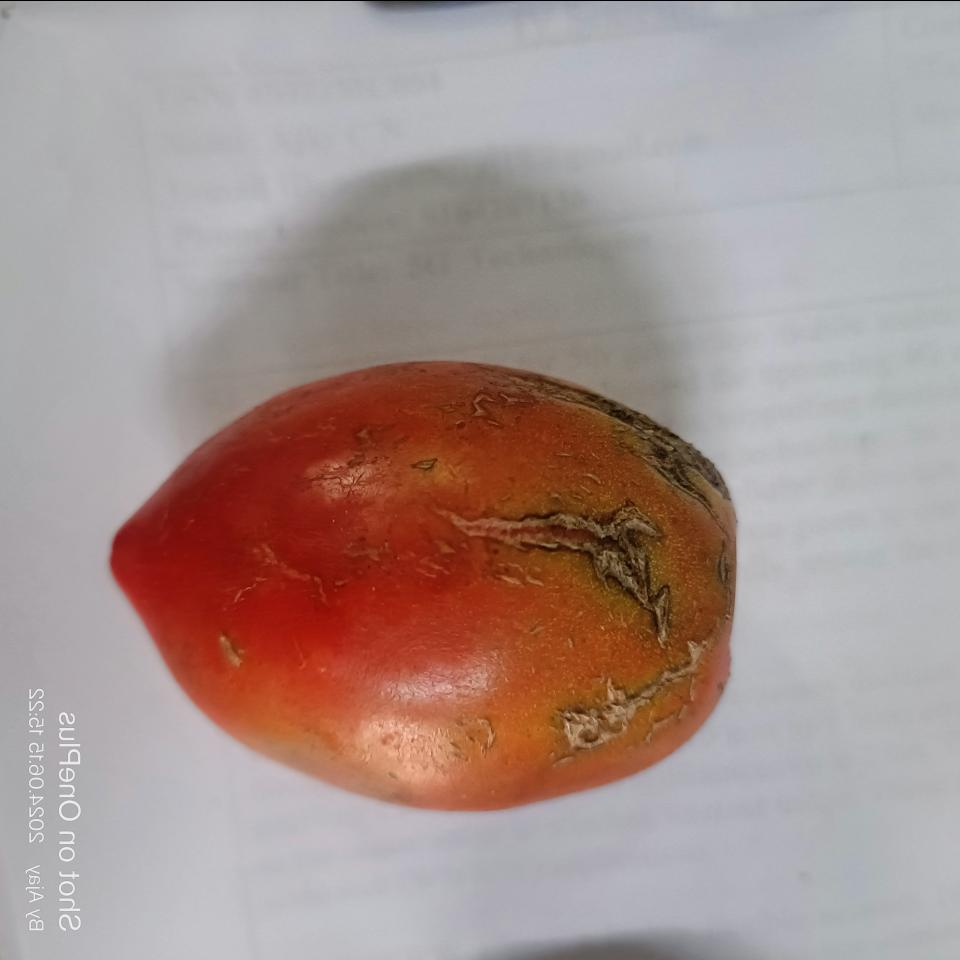Cracking: (429, 488, 682, 655), (541, 660, 700, 750)
